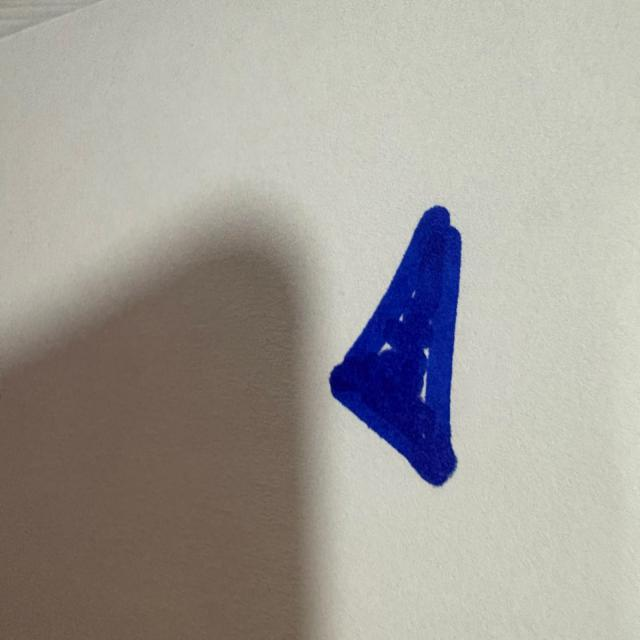Triangle: (330, 206, 461, 485)
